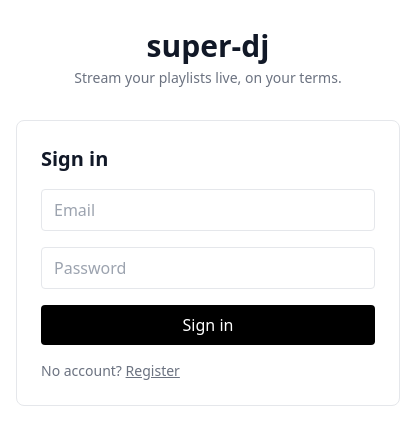
Test case: Login › shows the backend's error message on failure, without navigating
Type "a@example.com" into the field with placeholder "Email".
click(208, 210); type("a@example.com")  # box [41,189,375,231]
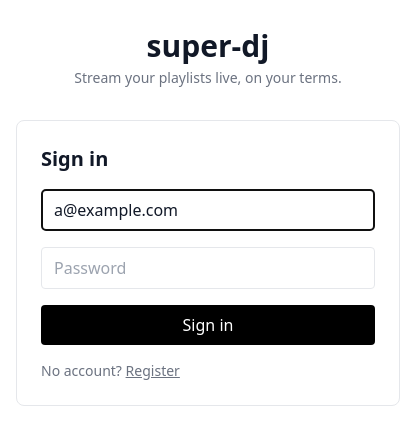
Type "wrong" into the password field with placeholder "Password".
click(208, 268); type("wrong")  # box [41,247,375,289]
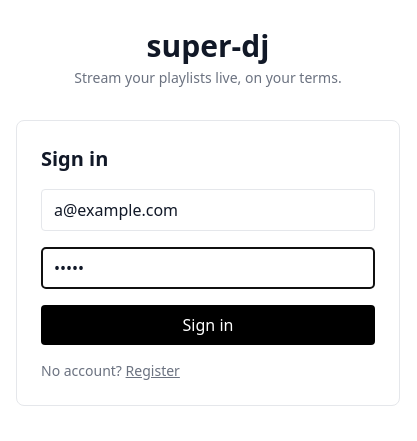
Click the button "Sign in".
click(208, 325)  # box [41,305,375,345]
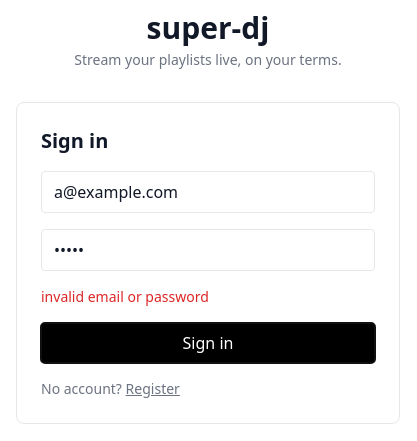
Check: the text "invalid email or password" is shown, box [41,287,209,306]
